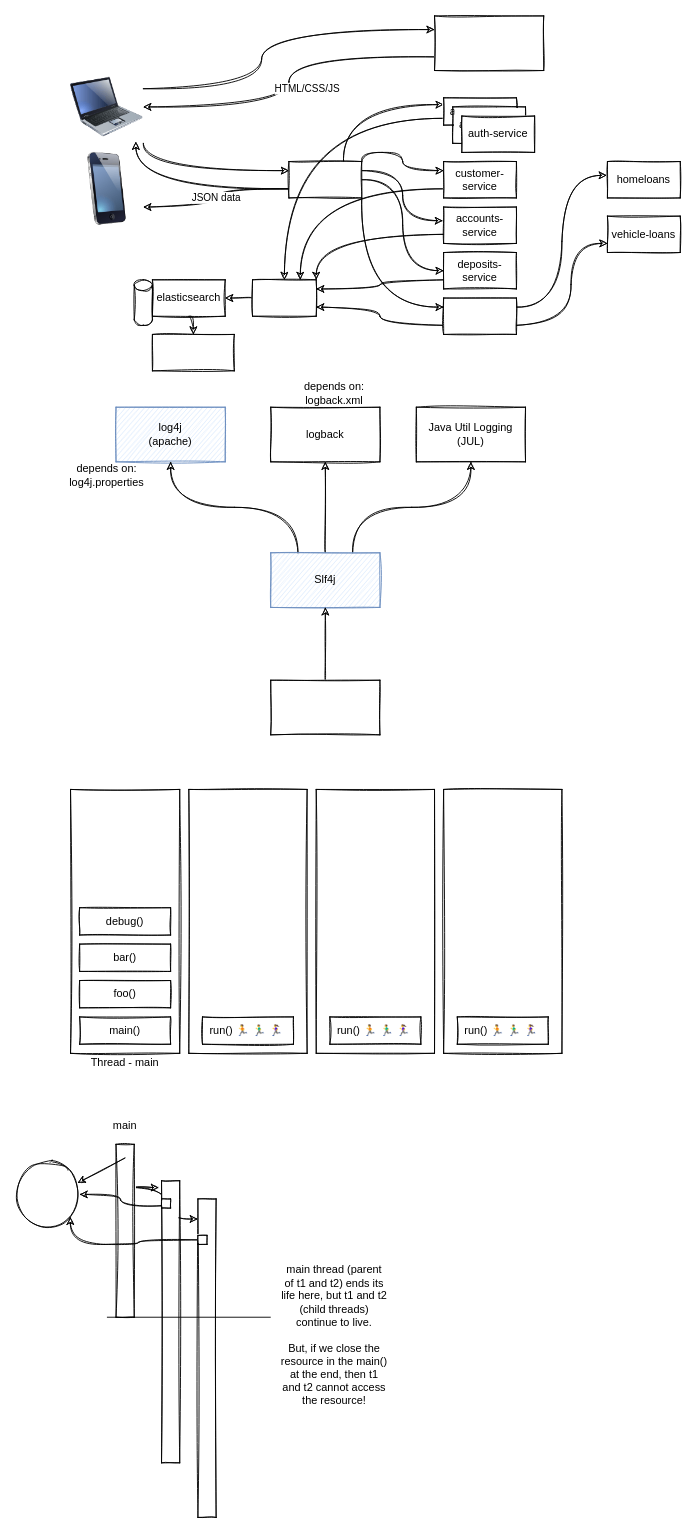
Image size: 696x1533. Some labels were removed from this diagram. The centre of each missing label's shape, as x and y in pixels:
"API GATEWAY" belongs at point 325,179.
"App" belongs at point 325,707.
"Kibana (for dashboard)" belongs at point 193,352.
"loans-service" belongs at point 479,315.
"logstash/ fluentd" belongs at point 284,297.
"resource (file/db connection/ ..)" belongs at point 47,1194.
